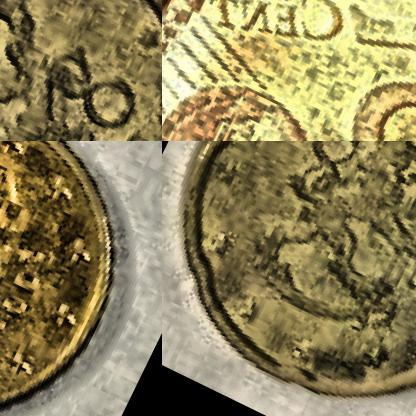coin: (162, 141, 415, 415), (0, 141, 161, 415), (162, 0, 415, 140), (0, 0, 161, 140)
